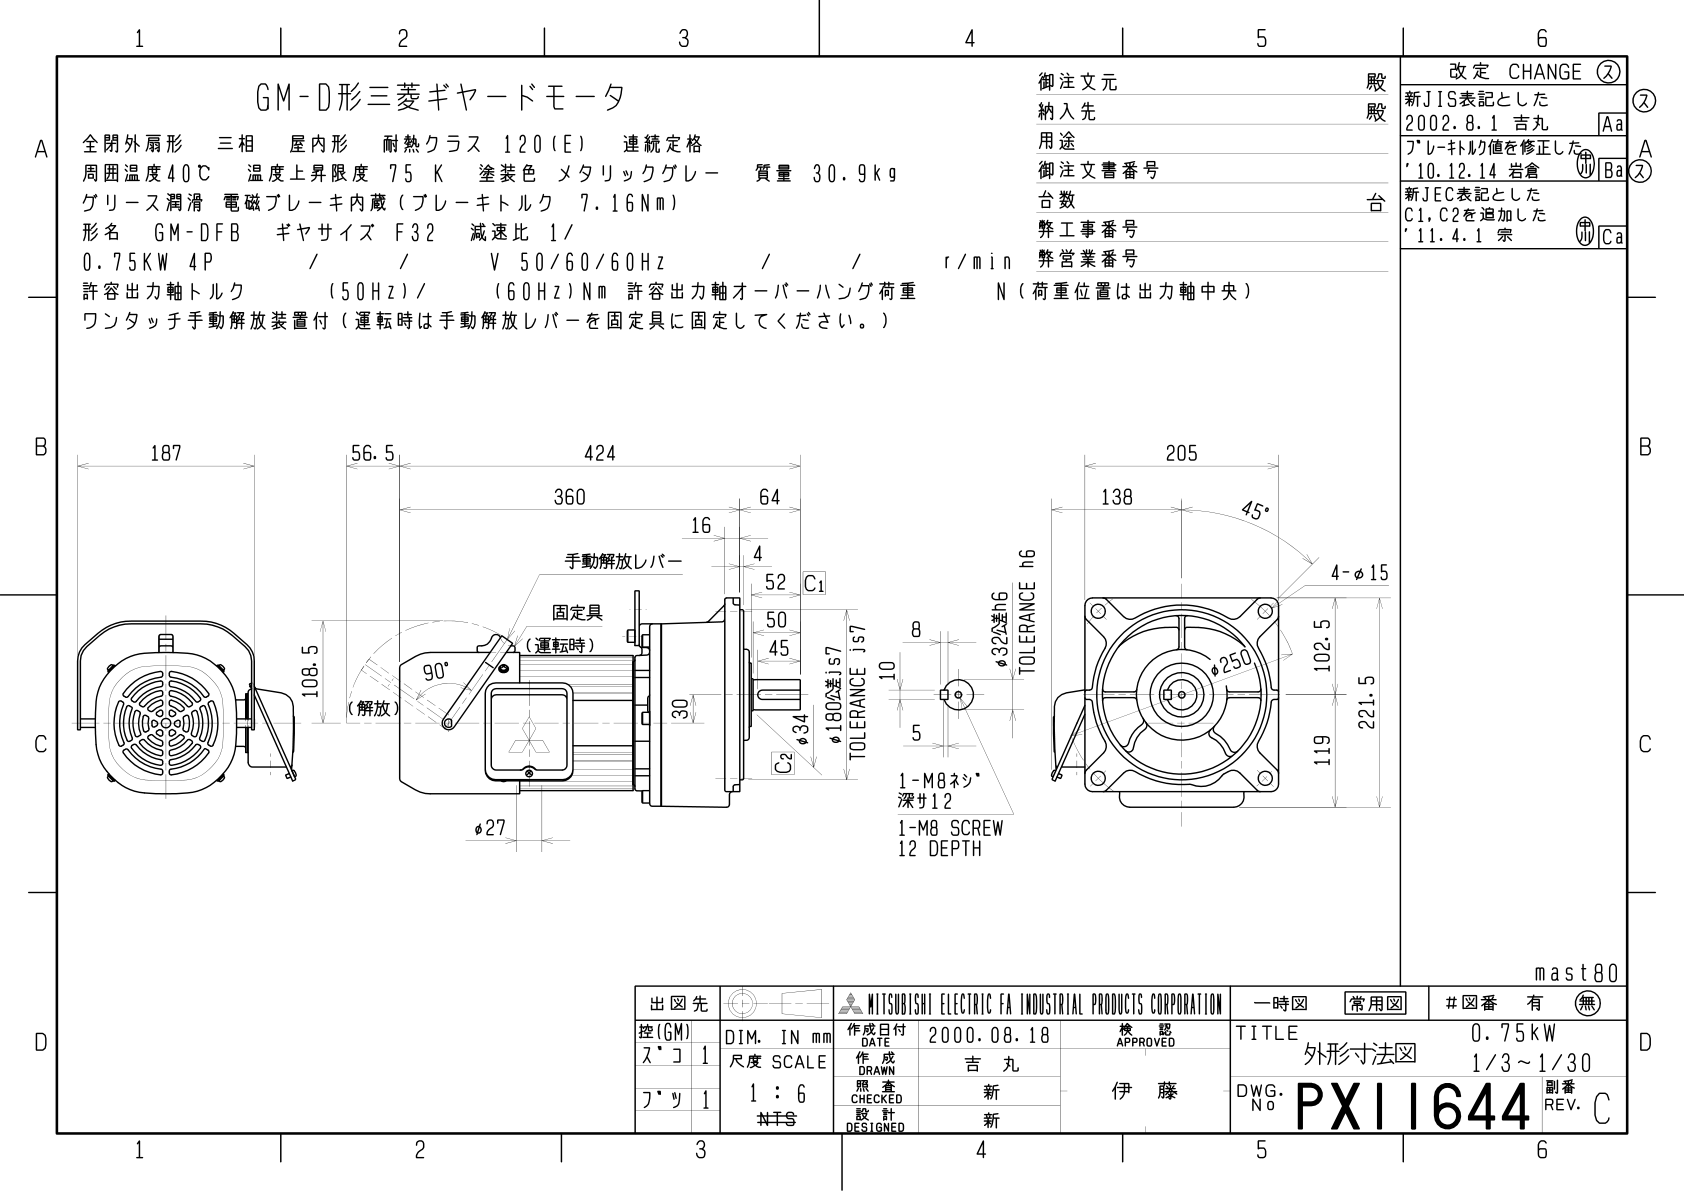GM_D_手動解放ブレーキ＿三相_フランジ: (1, 1, 1674, 1183)
